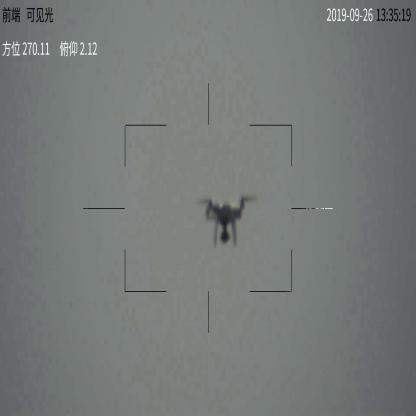uav: (198, 196, 258, 246)
